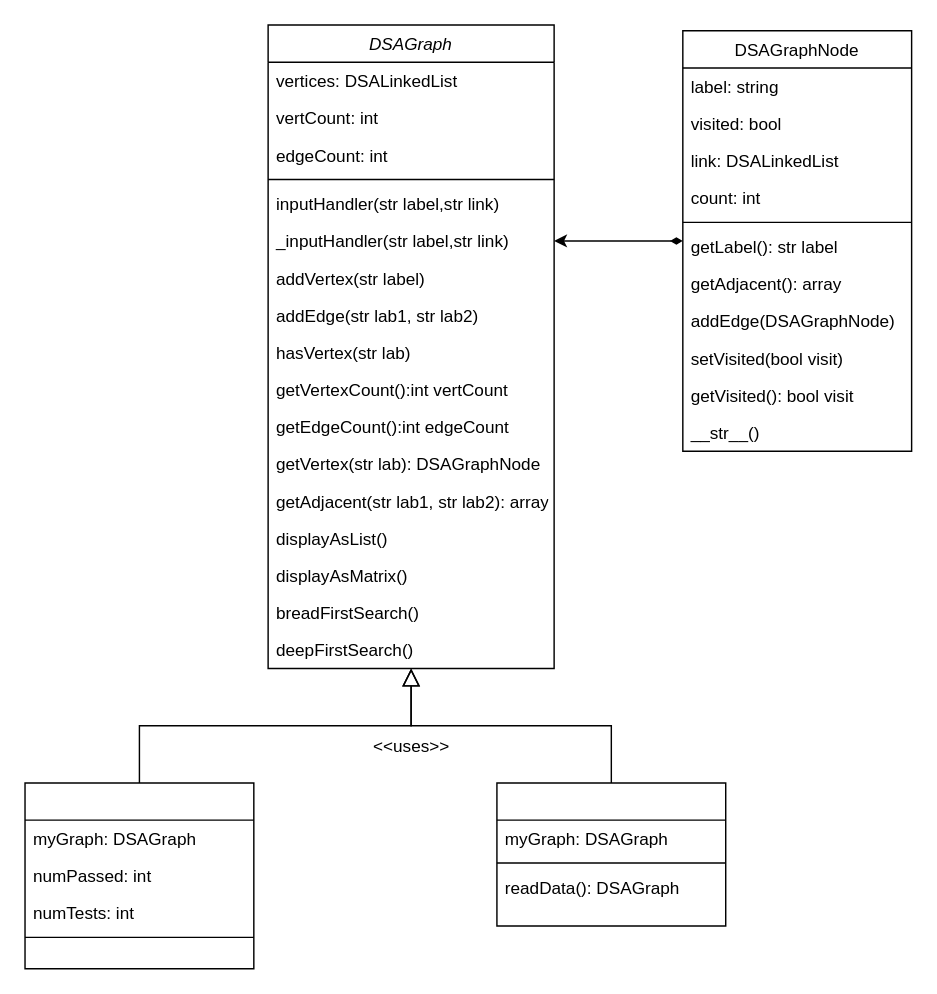
Some shapes in this 937 by 994 pixel diagram are drawn without their labels. Here are the shapes that lost their labels. From the top down, the box of each, then its label:
(495, 781, 726, 926): GraphFileReader
(24, 781, 254, 969): DSAGraphTestHarness
